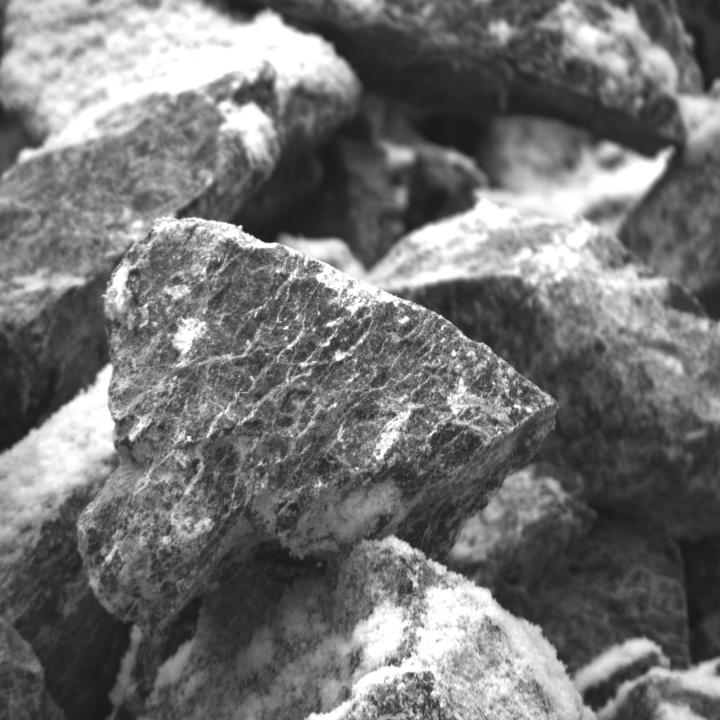stone: (80, 231, 577, 616), (366, 182, 720, 520), (0, 83, 285, 415), (151, 546, 596, 720), (253, 0, 715, 159), (0, 0, 366, 143)
